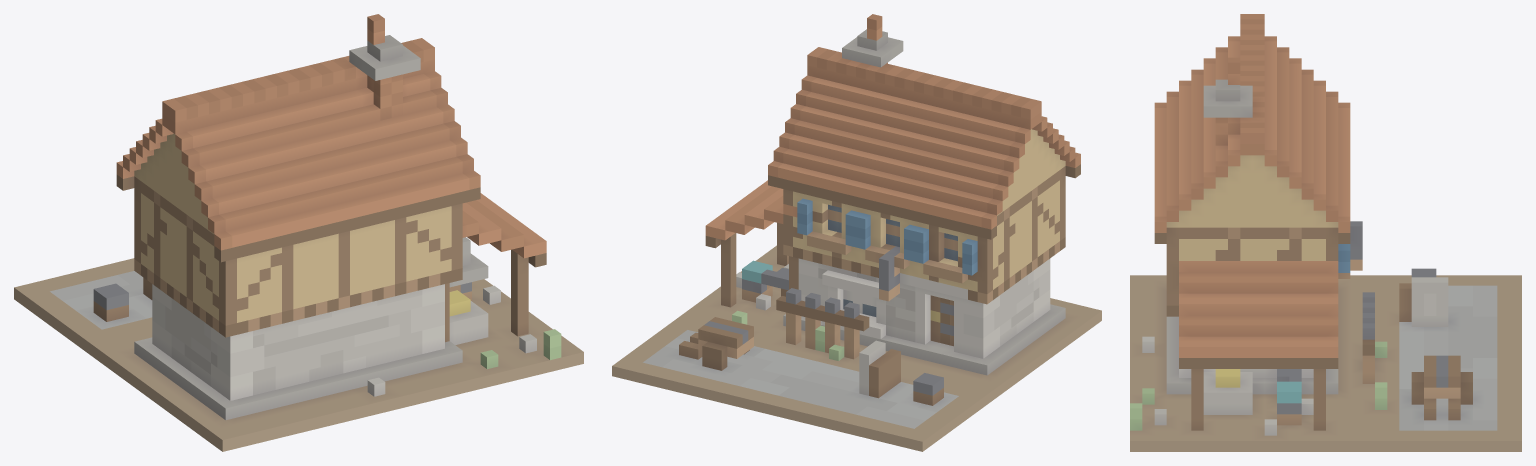
File: toolmaker.glb
3 views of the same model, side by side, from view 1: azimuth 30°, elevation 25°; view 2: azimuth 150°, elevation 25°; view 3: azimuth 270°, elevation 25° (orthographic). The views are drawn at different scales.
Visible parts, largest first — view 1: toolmaker; view 2: toolmaker; view 3: toolmaker.
Part boxes in pixels (x1,y1,x2,y2): toolmaker: [14, 14, 583, 451]; toolmaker: [612, 14, 1101, 451]; toolmaker: [1130, 14, 1521, 451].
Bounding box in the file's own units: 4 × 3.62 × 4.
